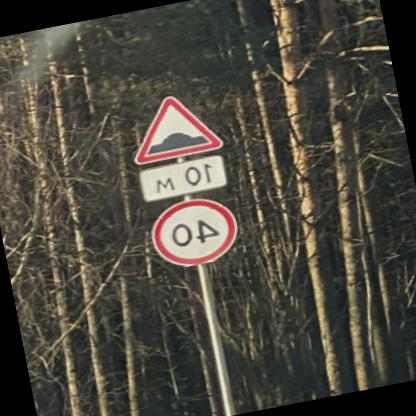speedlimit: (148, 190, 244, 268)
